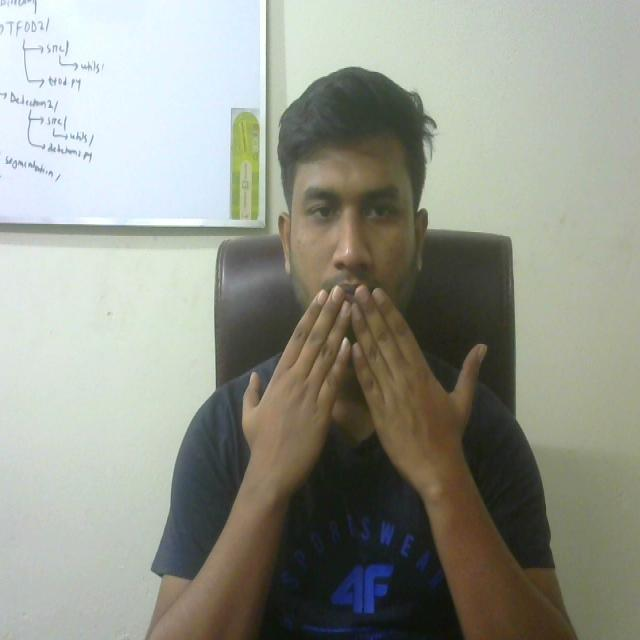Thanks: (230, 272, 498, 500)
